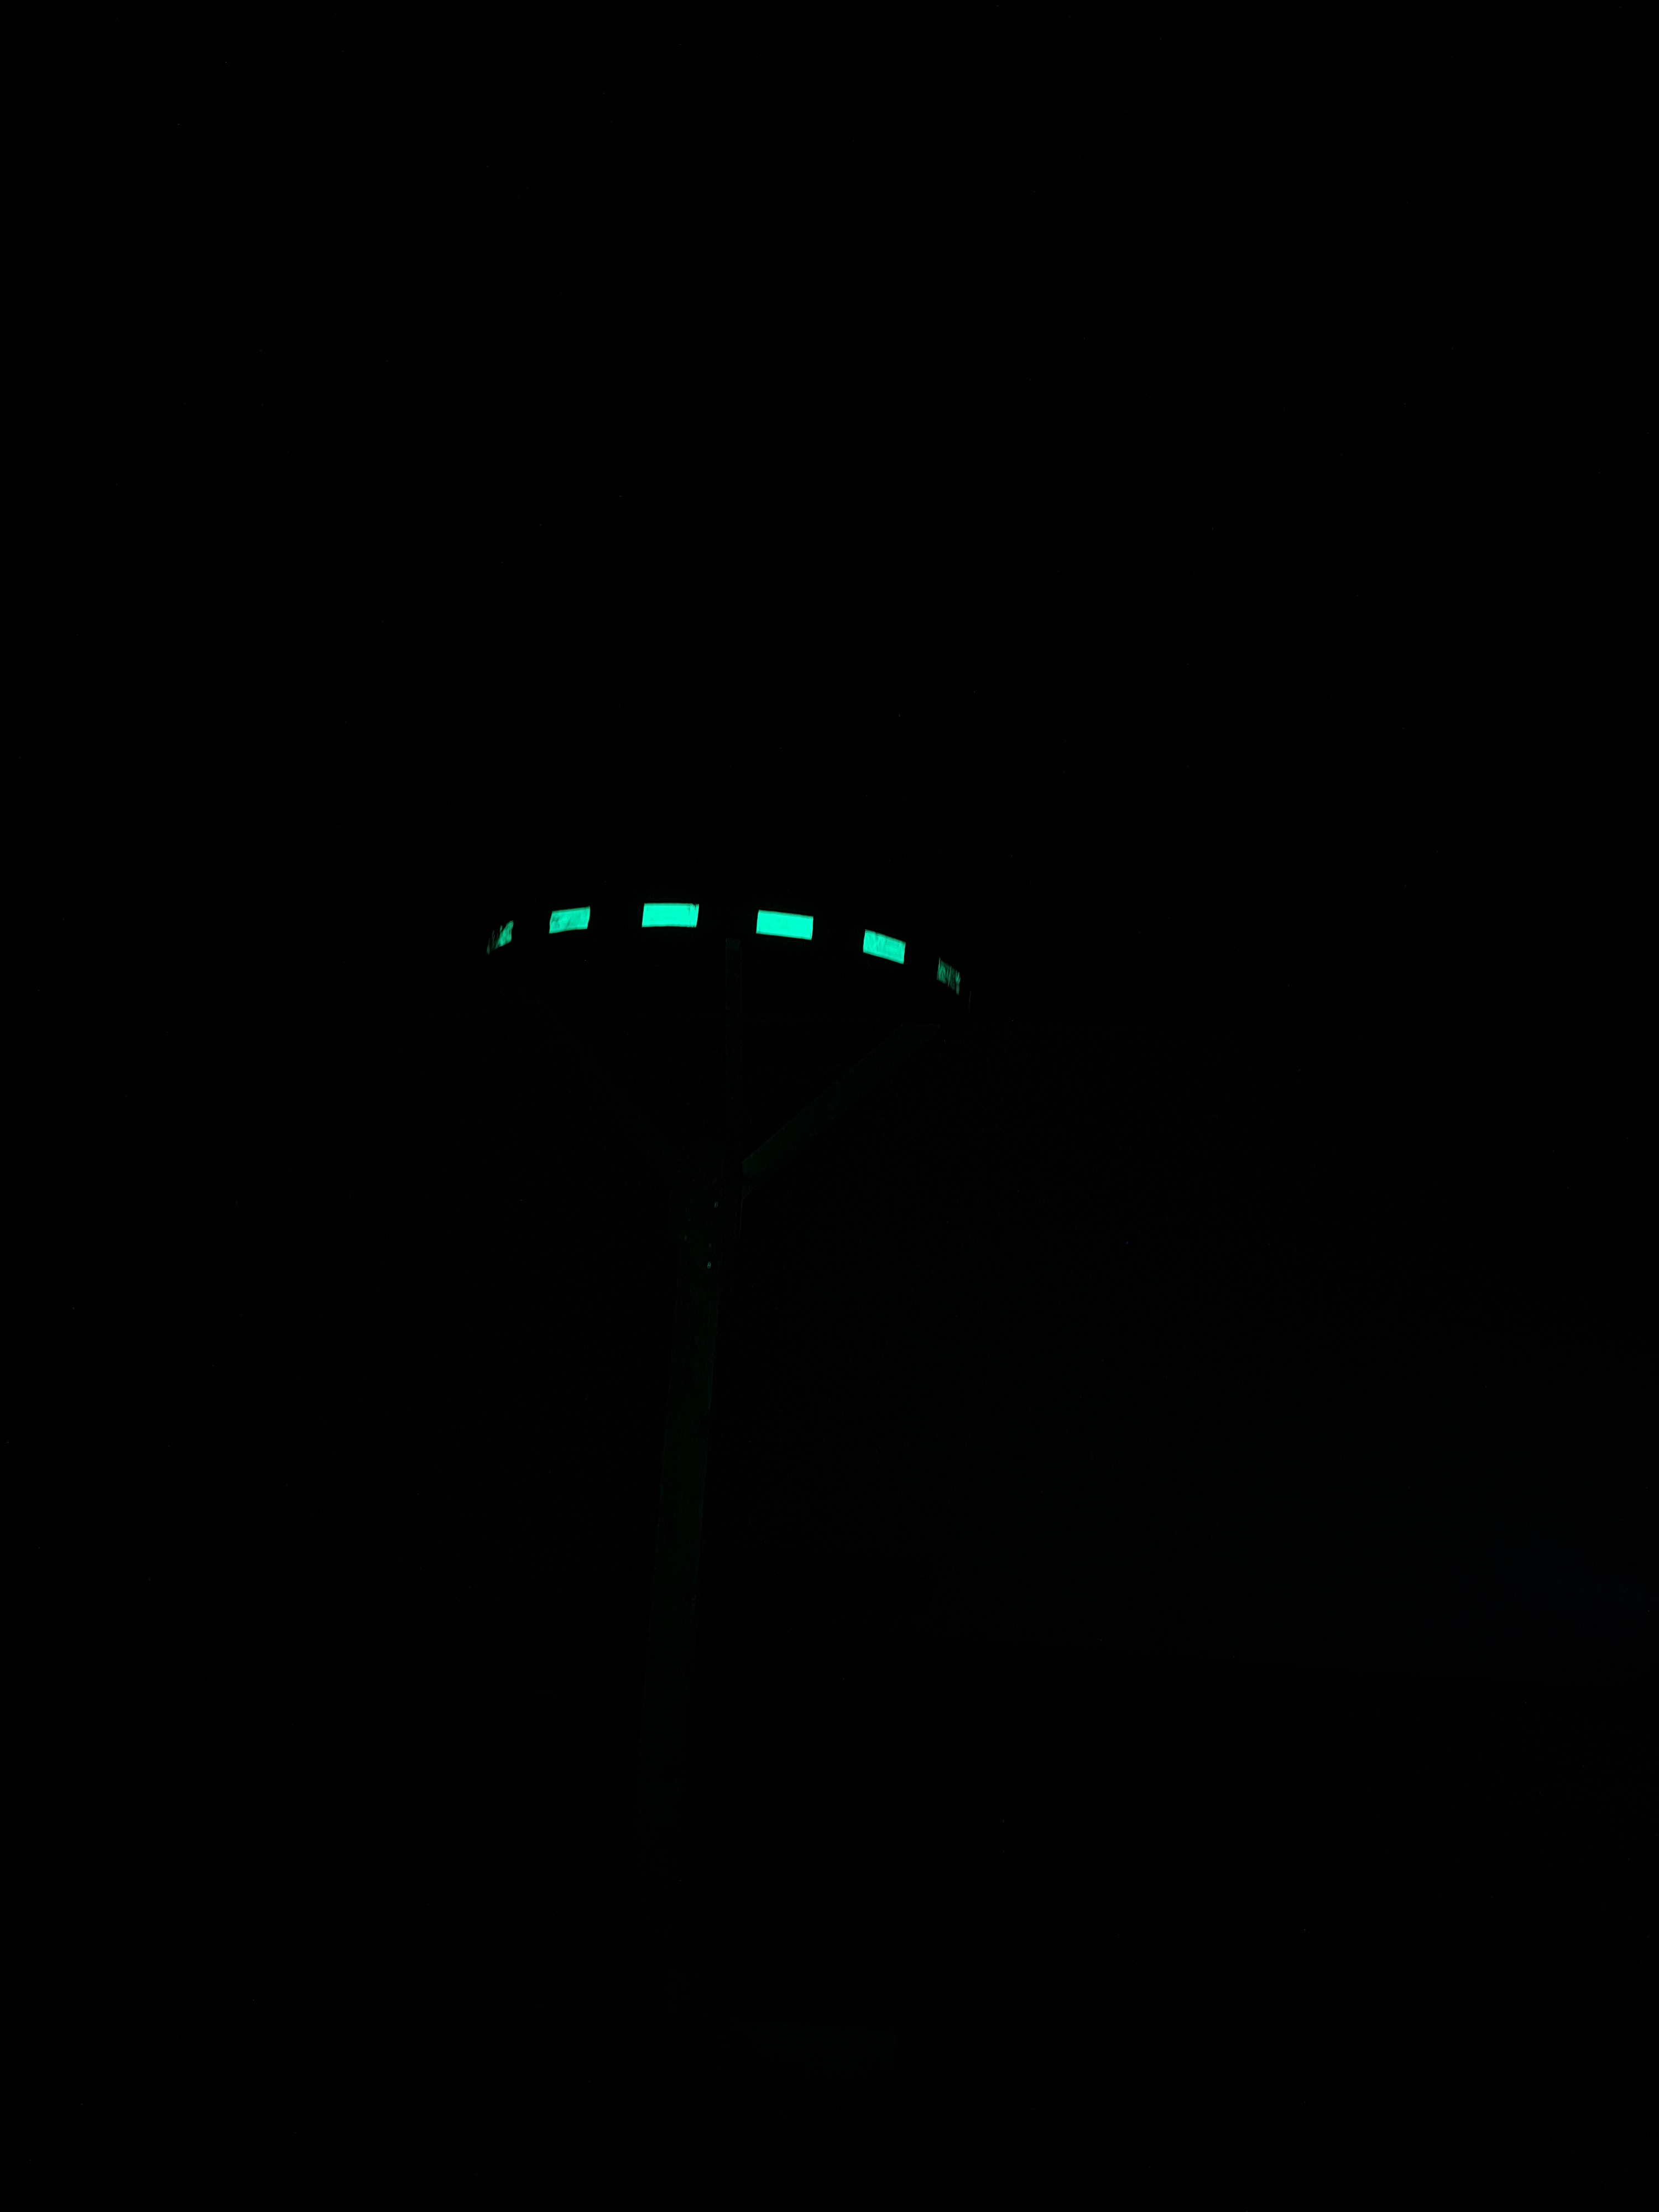hoop: (481, 895, 965, 1010)
